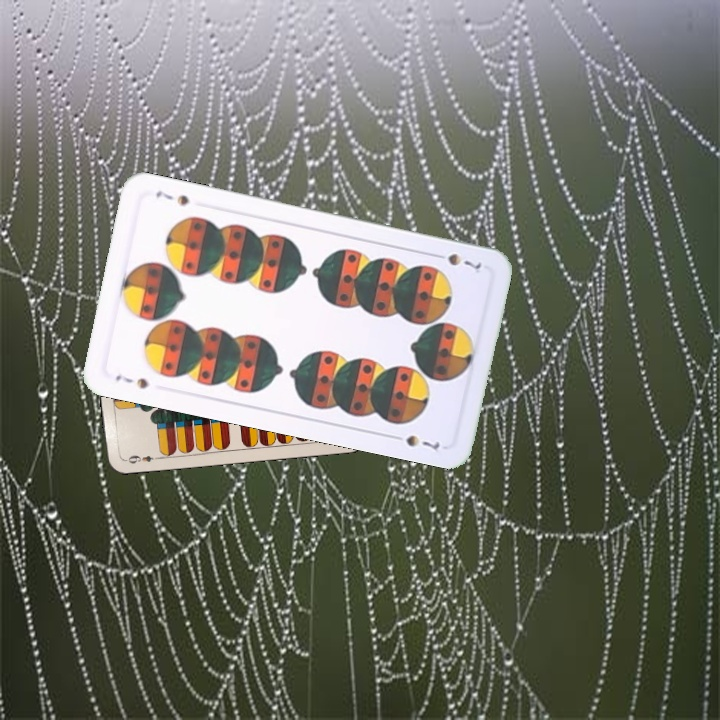E9: (121, 451, 161, 466)
S7: (429, 249, 484, 272), (111, 370, 152, 391)
